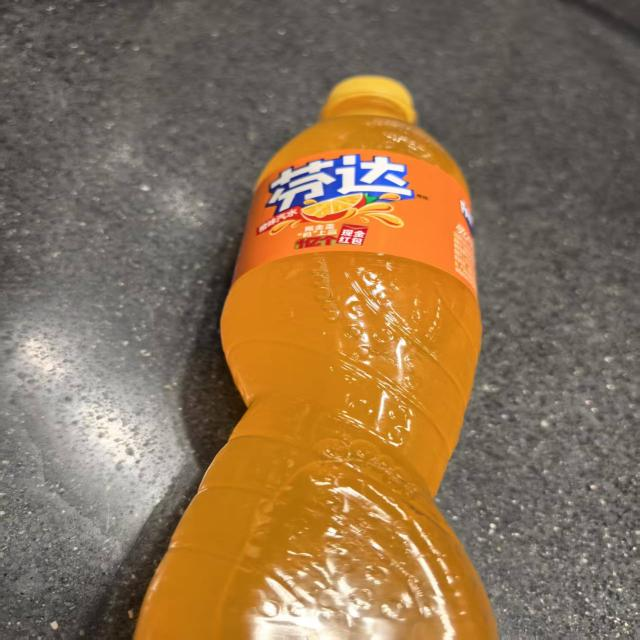orange: (245, 148, 419, 238)
